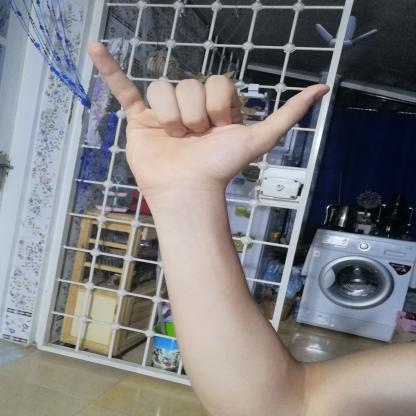YA: (69, 28, 347, 208)
